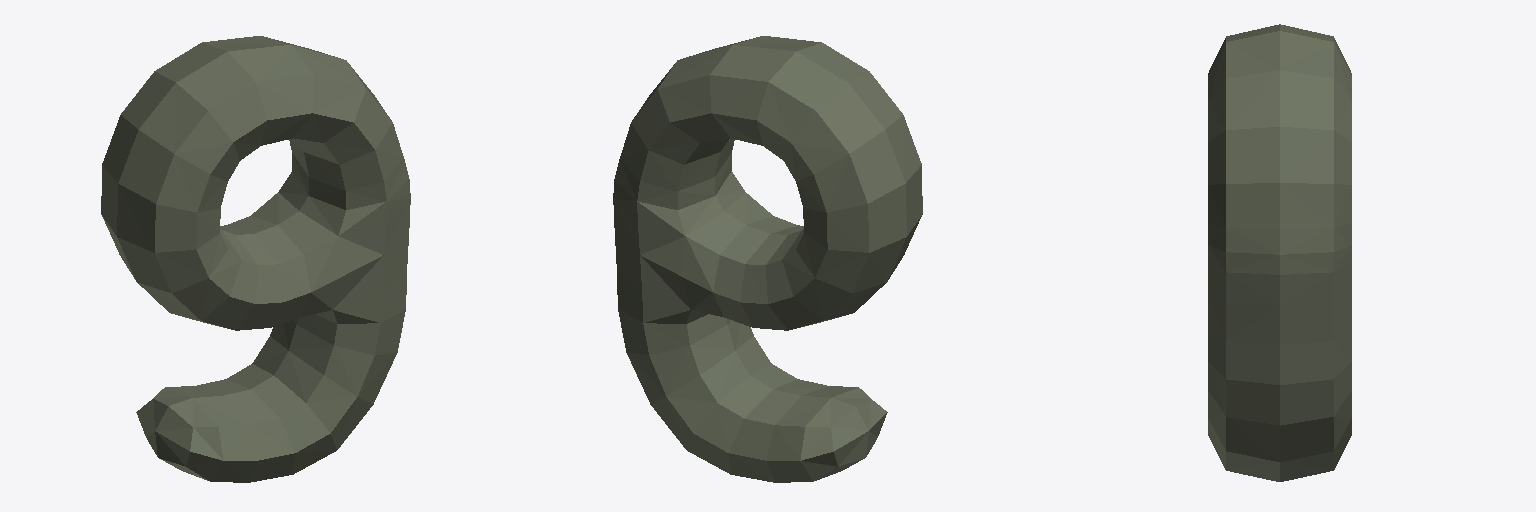
Rendered from Numbers_9.obj.
3 renders of one model, left to right at view 1: azimuth 30°, elevation 25°; view 2: azimuth 150°, elevation 25°; view 3: azimuth 270°, elevation 25°, orthographic.
Parts seen in each view (by area): view 1: Numbers_9_Cube.019; view 2: Numbers_9_Cube.019; view 3: Numbers_9_Cube.019.
Part boxes in pixels (left/top/right/bottom): Numbers_9_Cube.019: left=101, top=36, right=410, bottom=482; Numbers_9_Cube.019: left=613, top=36, right=922, bottom=482; Numbers_9_Cube.019: left=1208, top=24, right=1351, bottom=481.
Size of the model in its own units: 0.7514 by 1.09 by 0.3362.